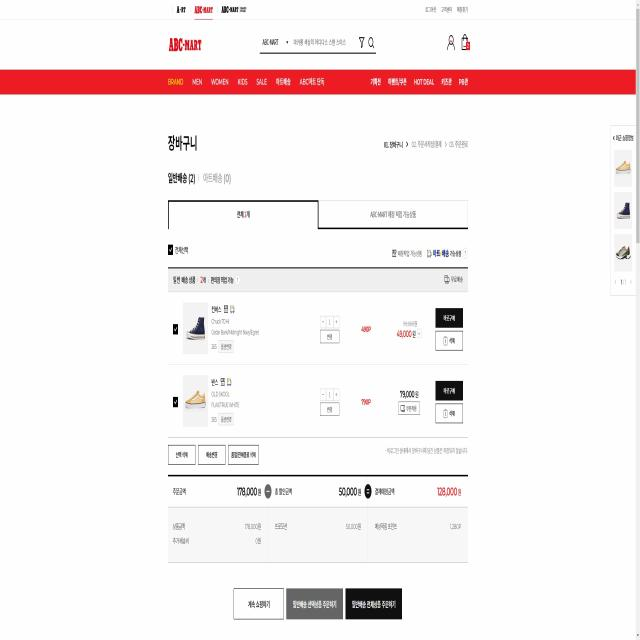menu-bar: (443, 31, 472, 57), (421, 3, 470, 18)
search: (257, 31, 380, 57)
tab-bar: (166, 199, 468, 230), (165, 72, 327, 92), (368, 70, 470, 93)
